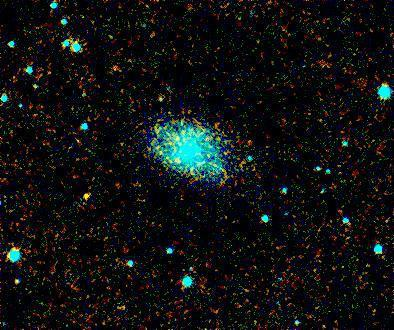star: (144, 83, 174, 113)
